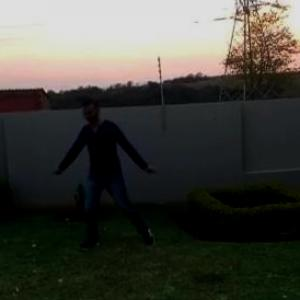land: (45, 83, 161, 253)
